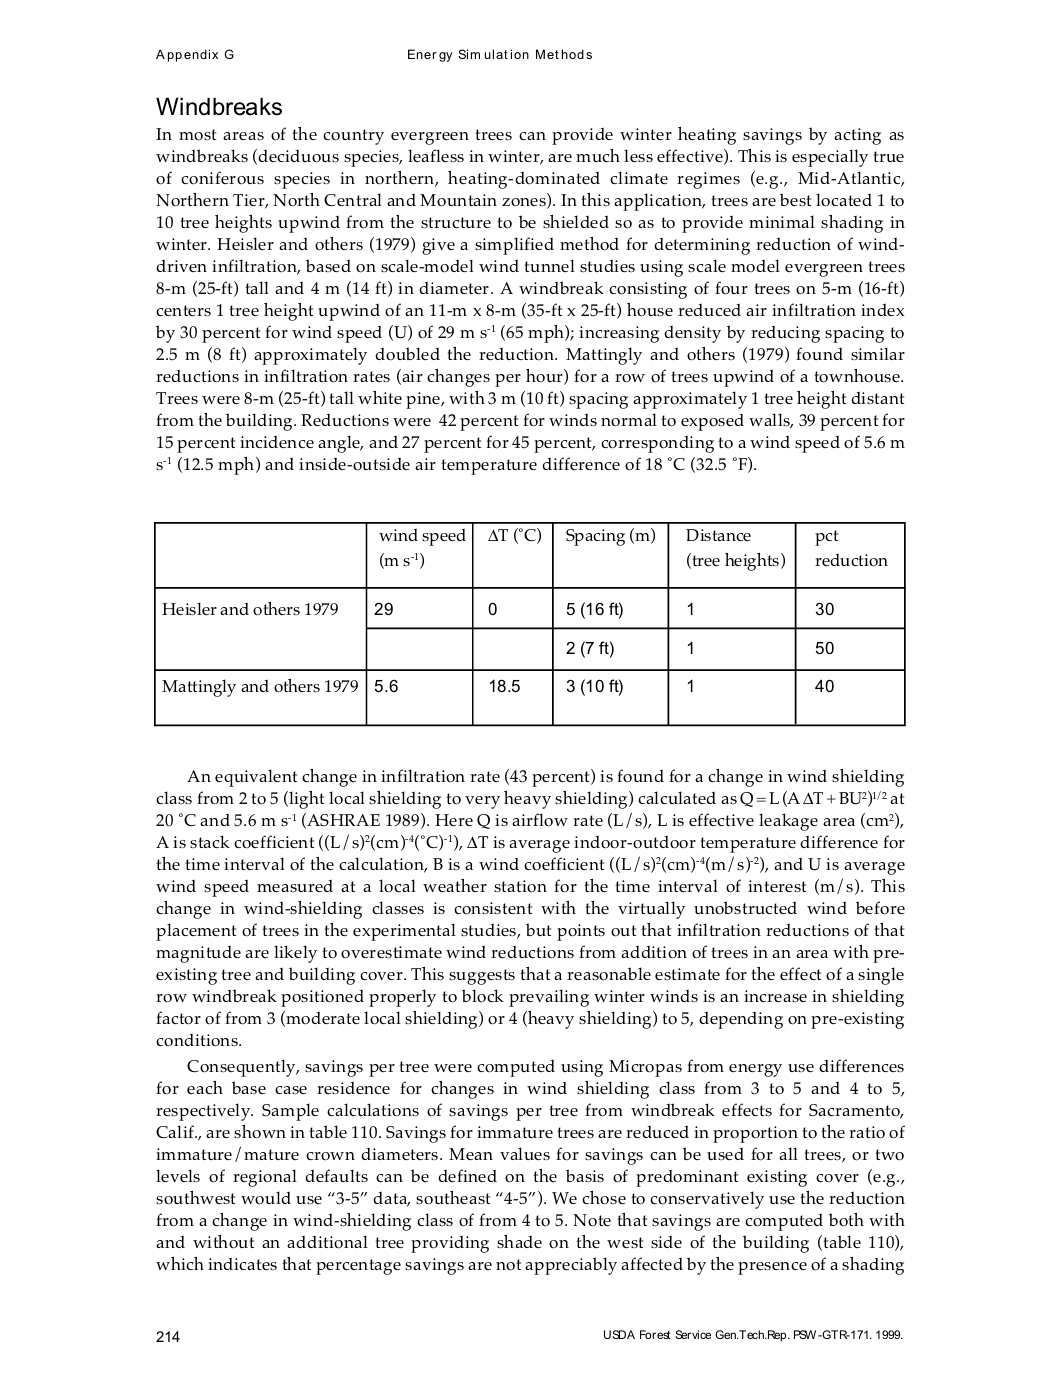Table: (154, 520, 905, 727)
